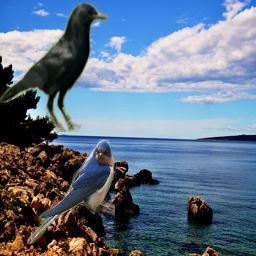Crow: (0, 2, 109, 132)
Swallow: (27, 139, 115, 244)
